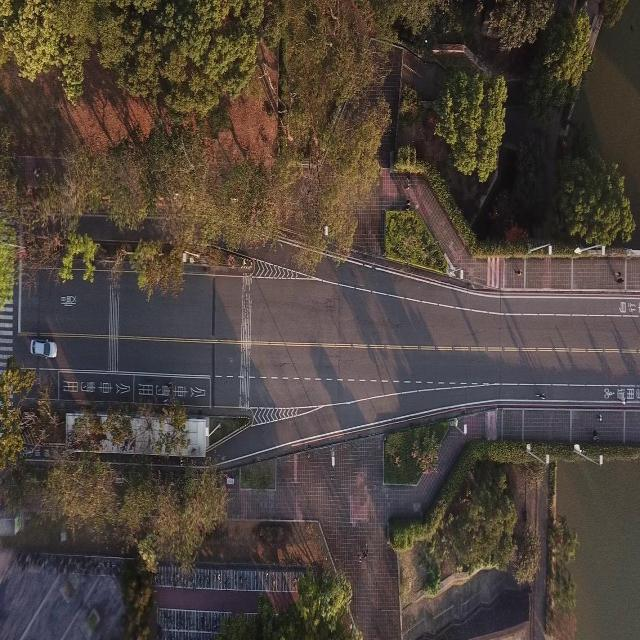car: (29, 337, 58, 359)
